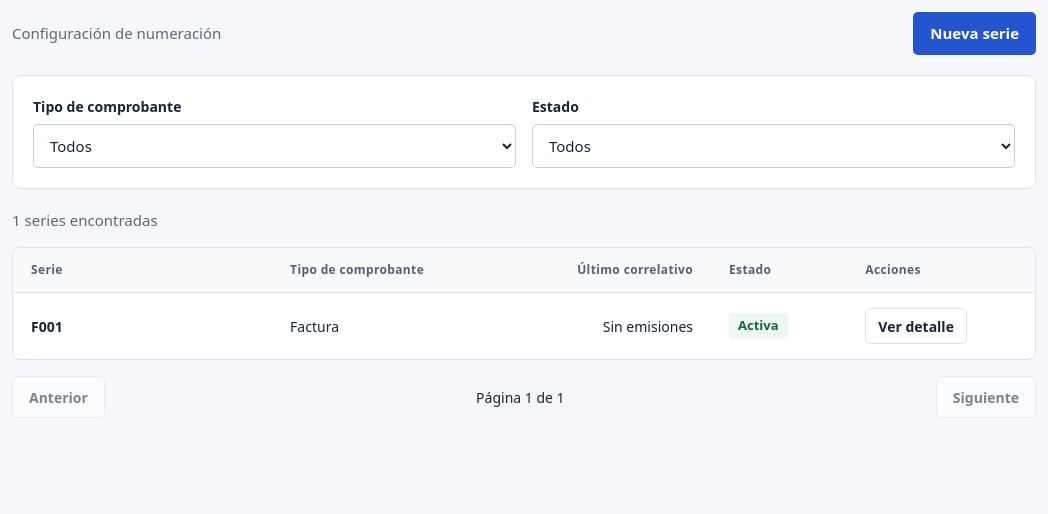
Test: confirma cambio de estado sin editar ni perder el correlativo
The width and height of the screenshot is (1048, 514).
Click the button with aria-label "Ver serie F001". click: x=916, y=326
box: [865, 308, 967, 344]
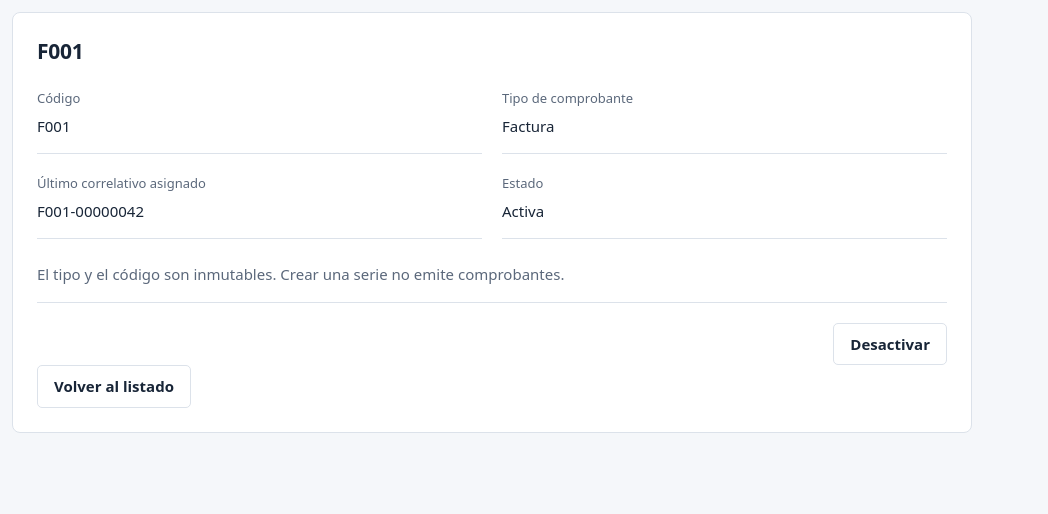
Check: the text "F001-00000042" is shown, box [37, 201, 144, 221]
Click the button "Desactivar". click: x=890, y=344
box: [833, 323, 947, 365]
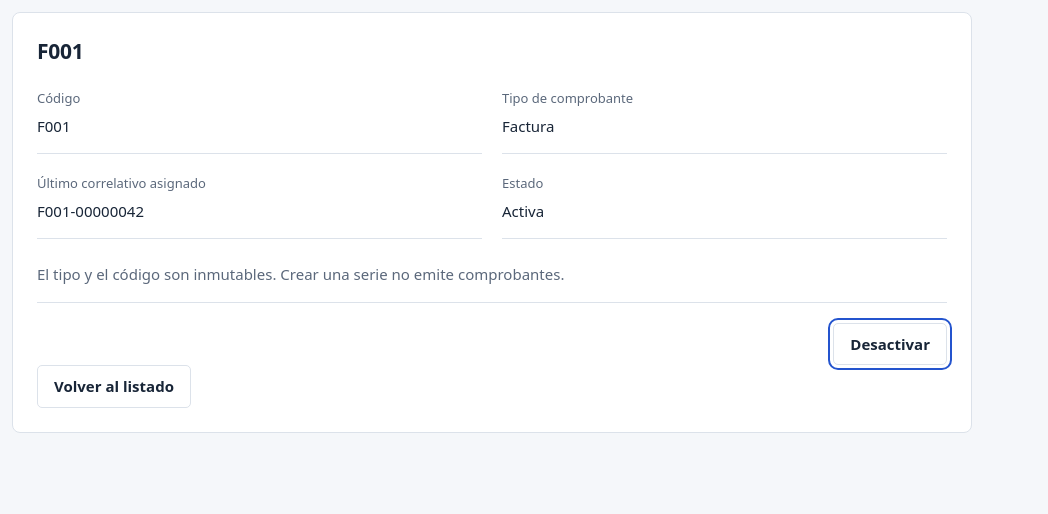
Click the button "Desactivar". click: x=890, y=344
box: [833, 323, 947, 365]
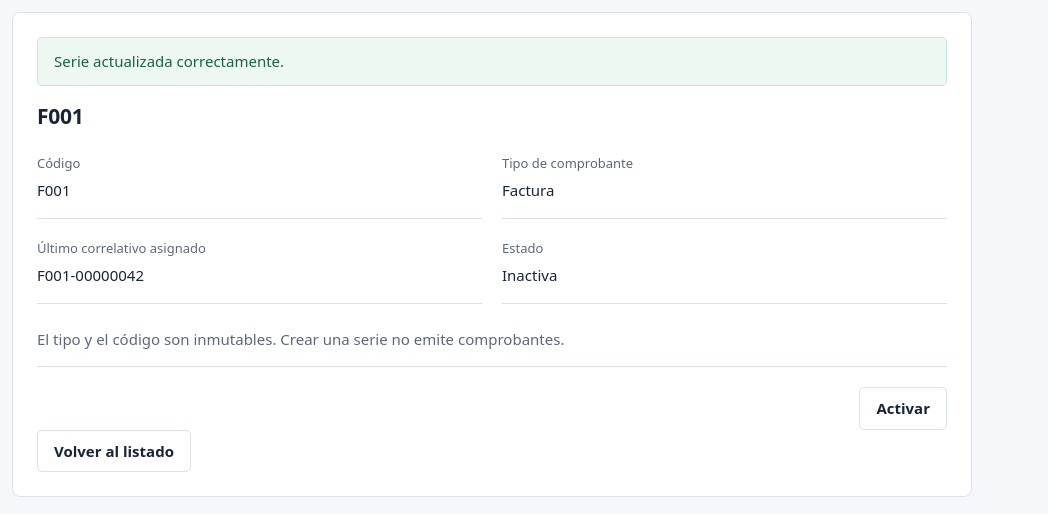
Check: the button "Activar" is shown
Check: the text "F001-00000042" is shown, box [37, 265, 144, 285]
Click the button "Activar". click: x=903, y=409
box: [859, 387, 947, 430]
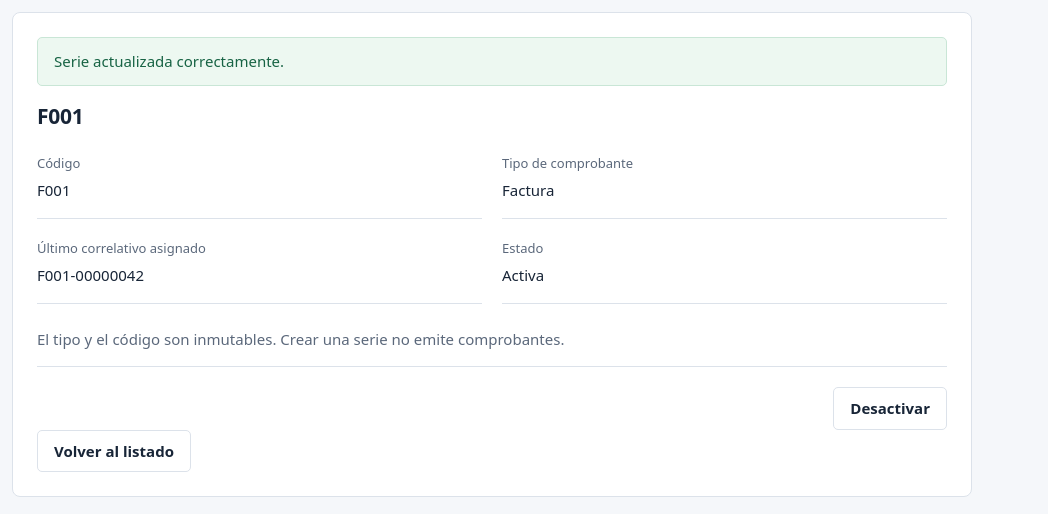
Check: the button "Desactivar" is shown, box [833, 387, 947, 430]
